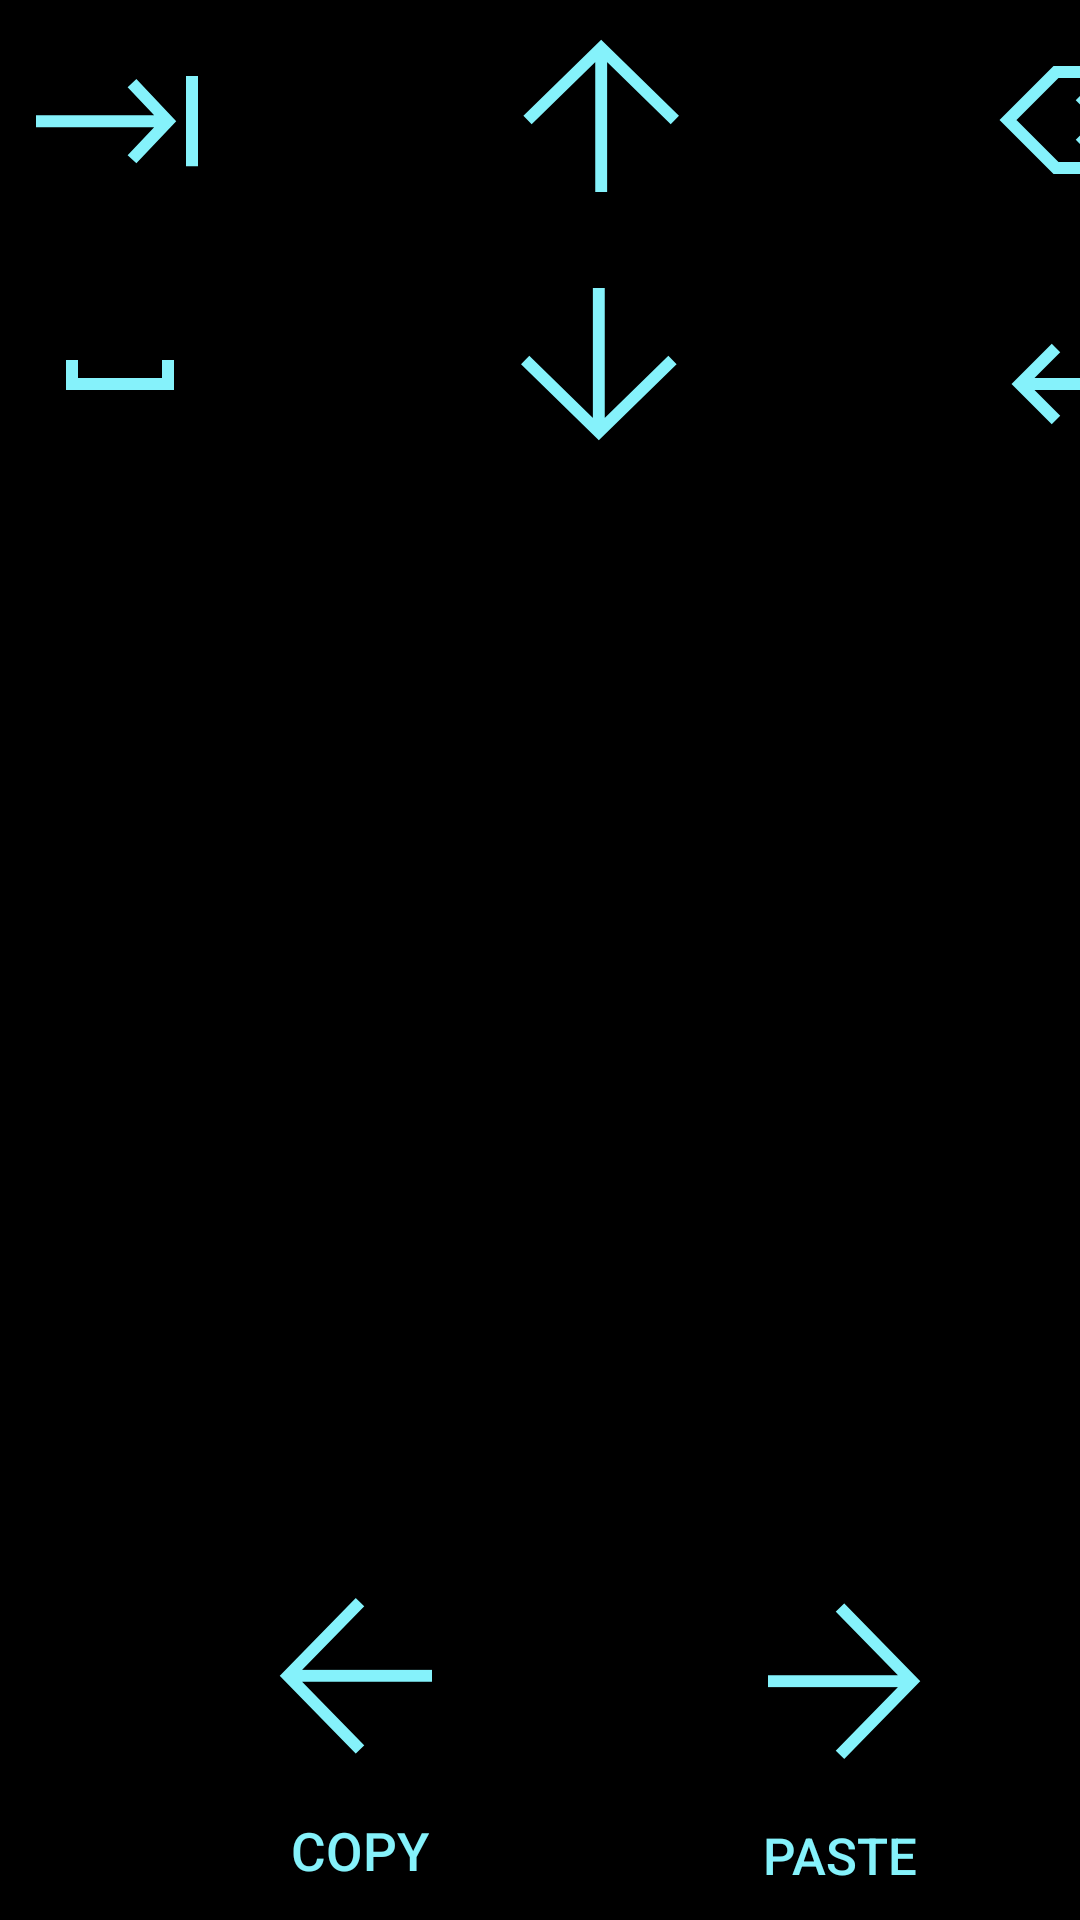

Icon bounding boxes for this 1080px×1920px phone screenshot, format (x1, y1, x2, y2):
space key: (66, 360, 174, 390)
